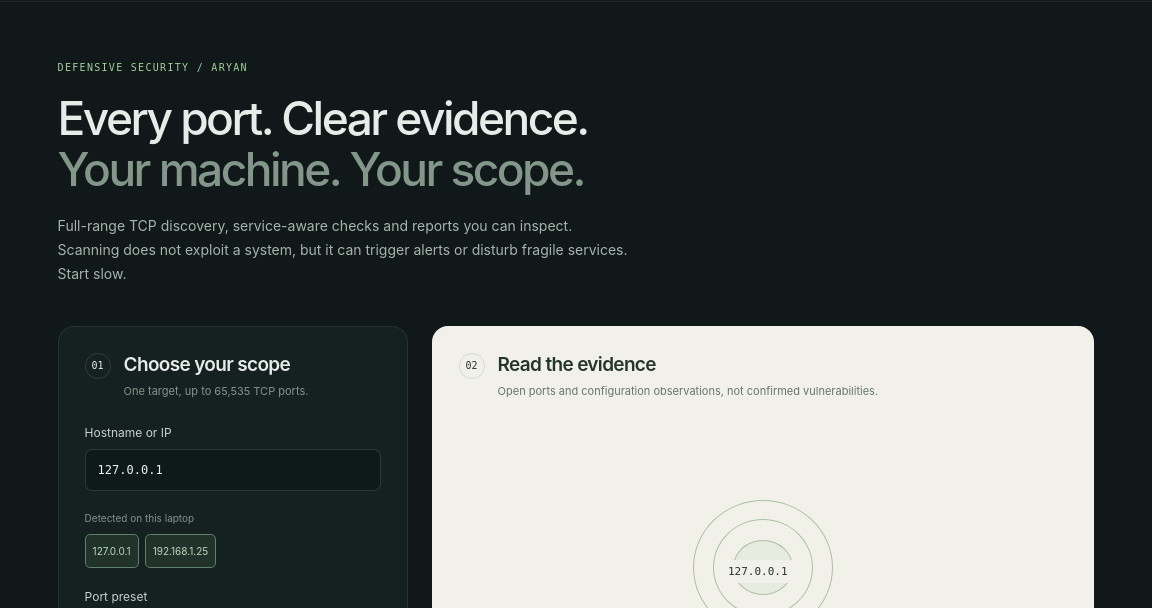
full-range local workbench › surfaces rejected external scope without false results
Expected: the button "192.168.1.25" is shown, [145,534,216,568]
Replace the text in the field labelled "Hostname or IP" with "example.test". click: (233, 470)
box: [85,449,381,491]
(page scrolled)
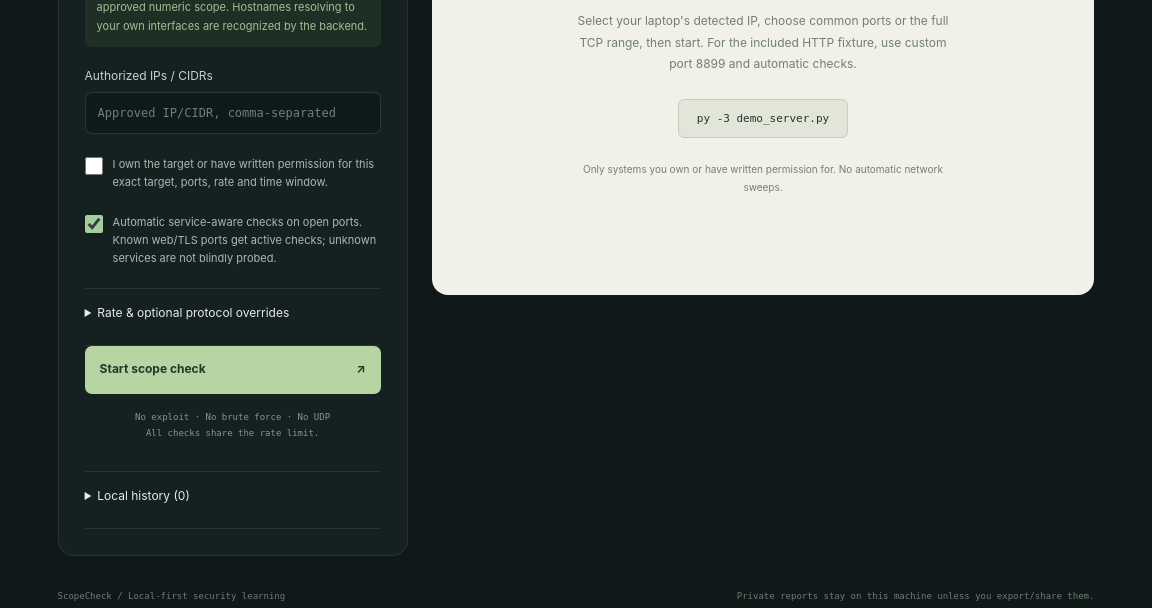
Result: the field named "Authorized scope" is shown at [85,92,381,134]
Click the button "Start scope check ↗". click: (153, 368)
box: [85,346,381,394]
(page scrolled)
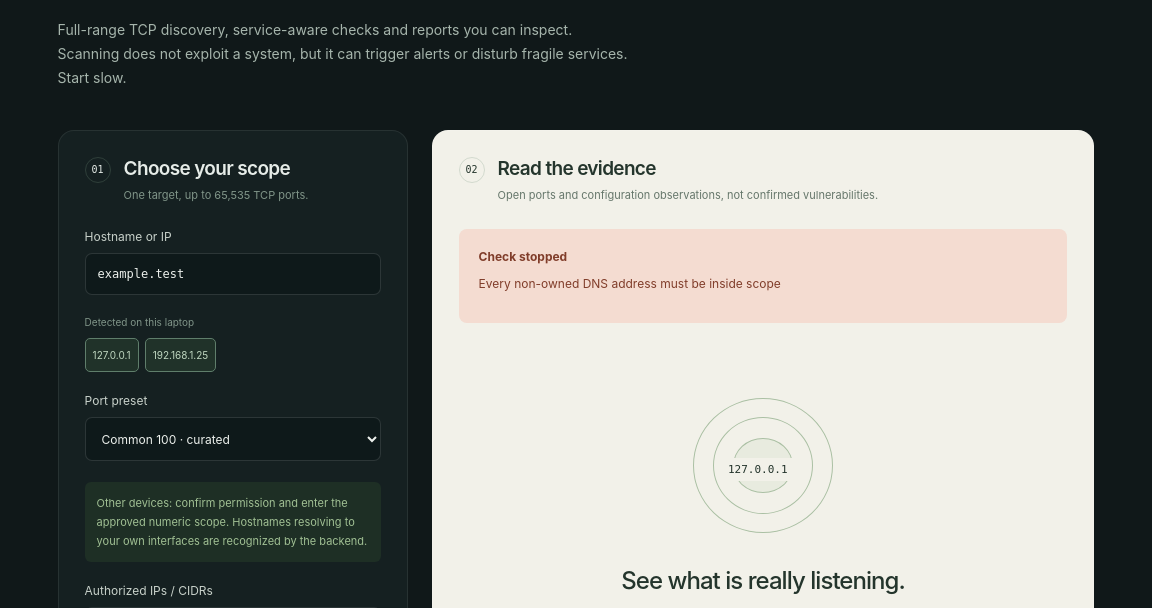
Result: the message shows "Every non-owned DNS address" at [479,276,781,291]
